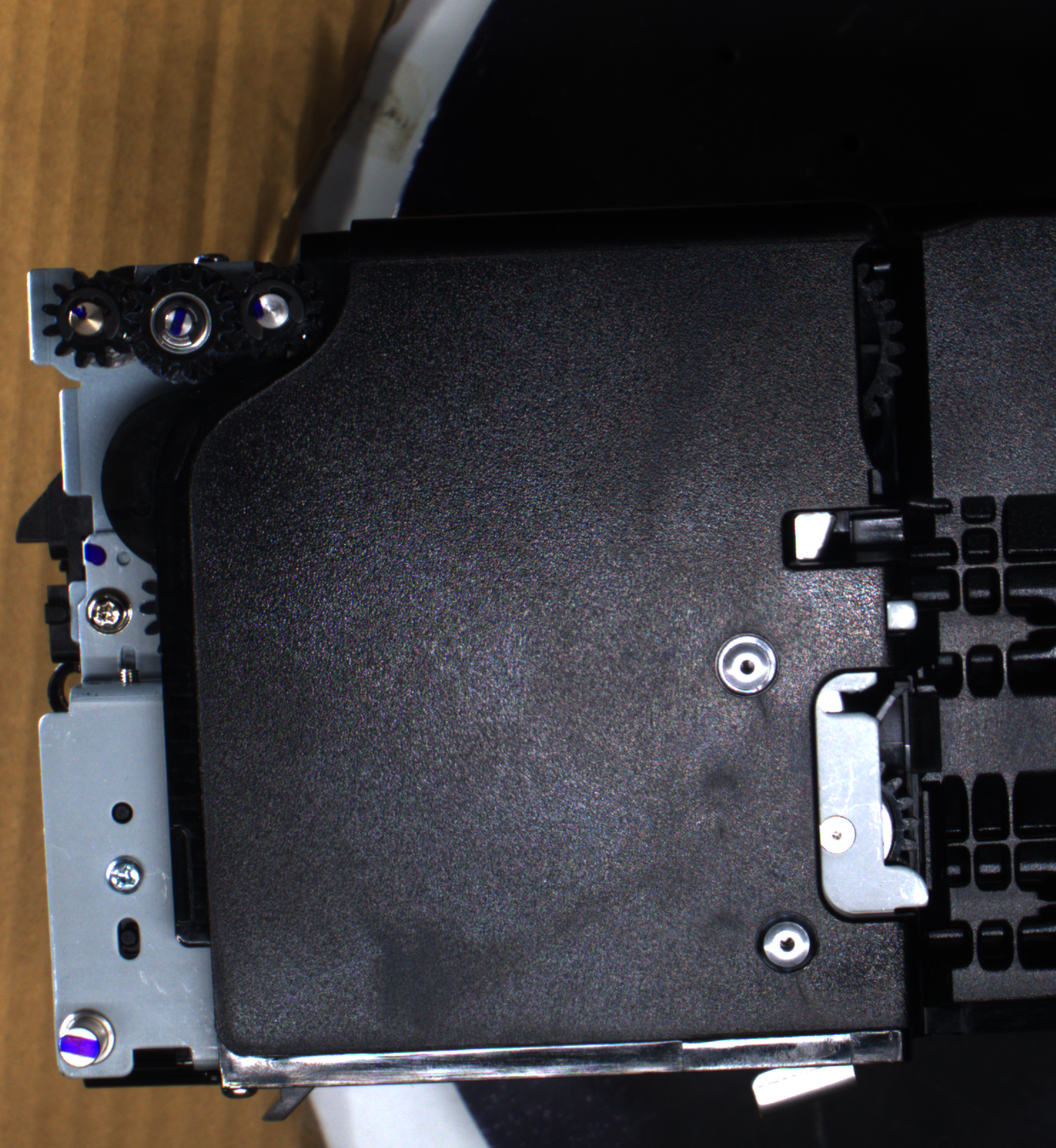centre_pin_presence: (746, 1048, 861, 1112)
centre_plate_presence: (807, 660, 941, 927)
centre_screw_presence: (711, 627, 783, 705), (751, 906, 823, 978)
gear1_presence: (39, 266, 141, 371)
gear2_presence: (124, 262, 236, 384)
gear3_presence: (218, 262, 319, 363)
side_screw_presence: (82, 584, 134, 636), (102, 855, 148, 896)
slanting_pin_presence: (52, 1005, 123, 1076)
